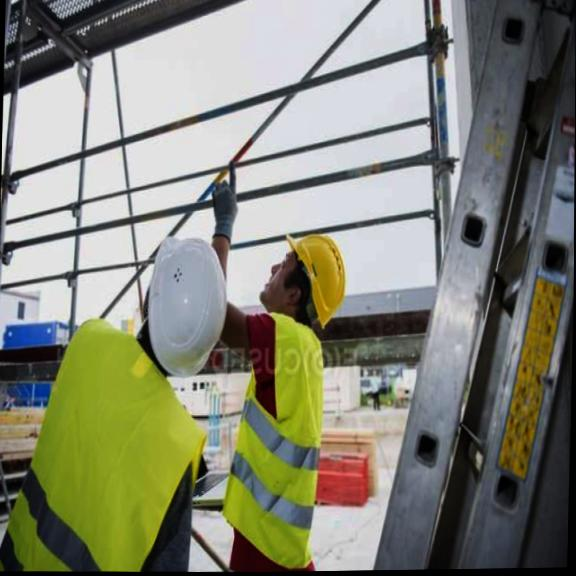safety_vest: (5, 401, 186, 574), (221, 324, 327, 556)
